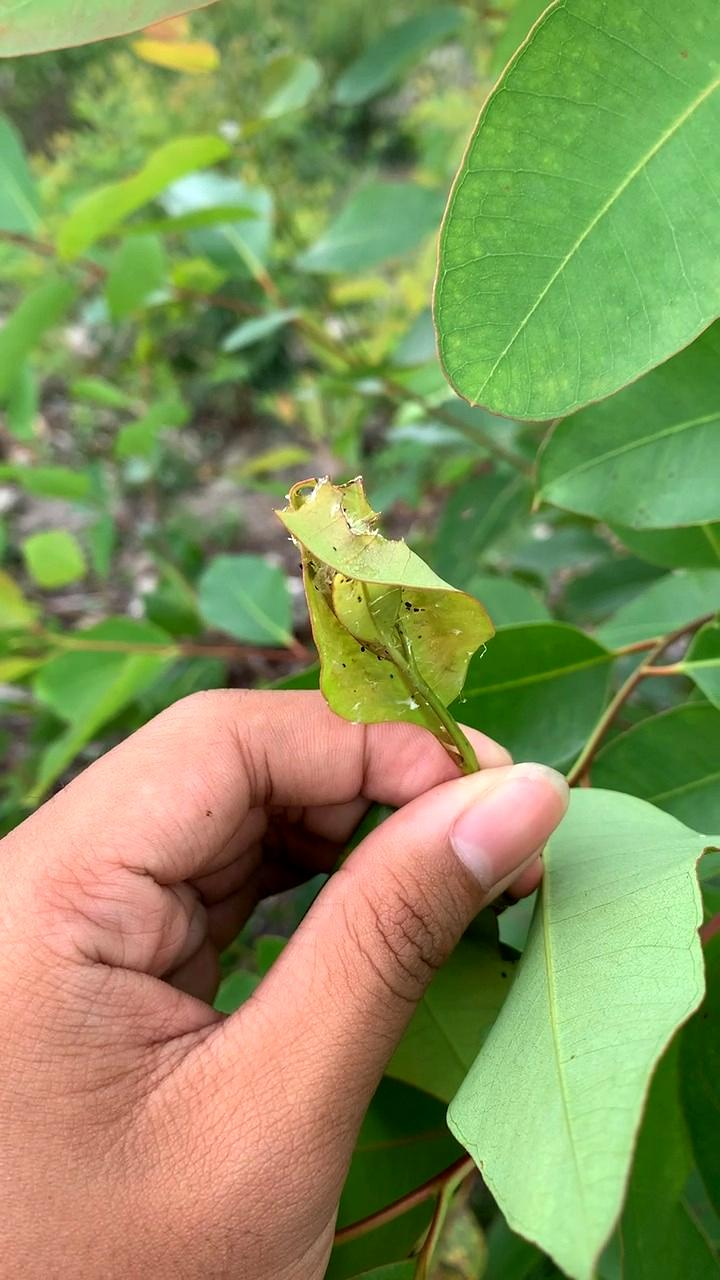Leaf Roller - Leaf: (265, 465, 505, 755)
